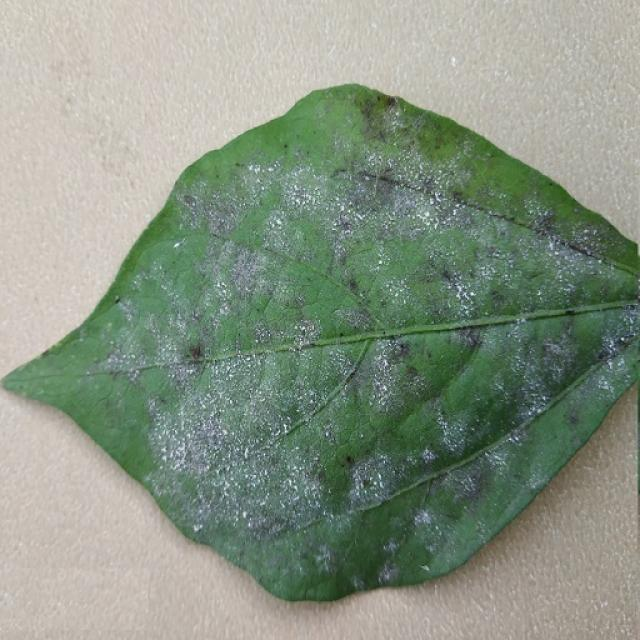Blackgram: (4, 85, 639, 600)
Powdery_Mildew: (157, 395, 293, 474), (335, 162, 436, 212)
